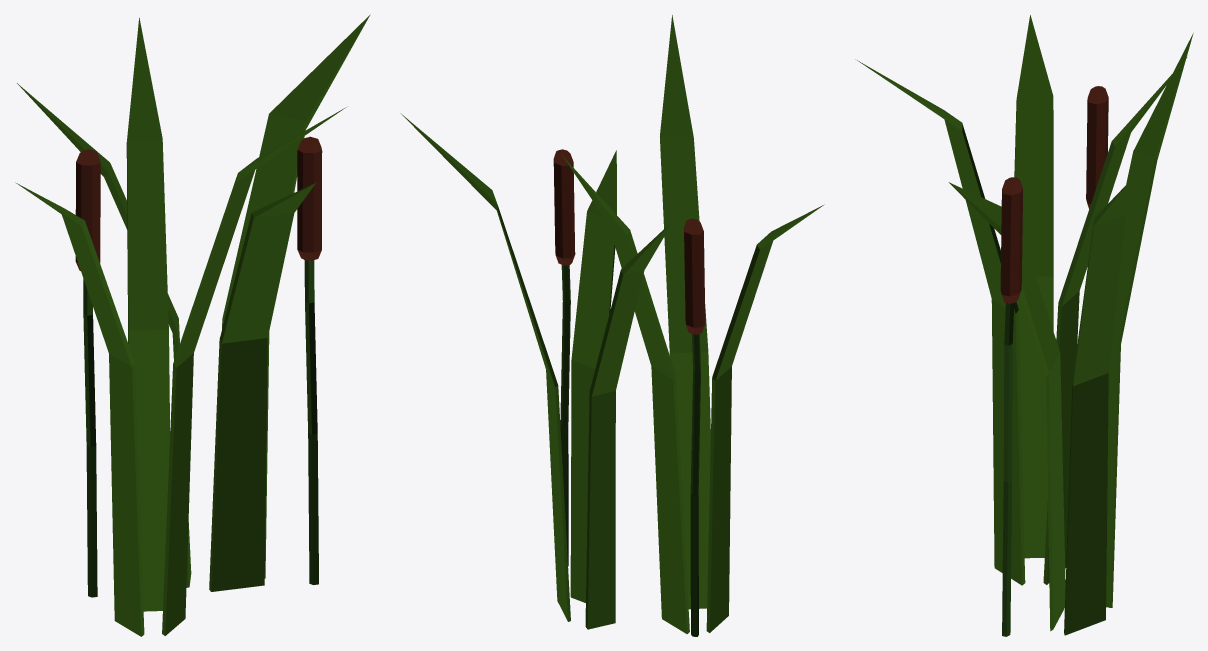
Rendered from waterSticks.FBX.
3 renders of one model, left to right at view 1: azimuth 30°, elevation 25°; view 2: azimuth 150°, elevation 25°; view 3: azimuth 270°, elevation 25°, orthographic. The views are drawn at different scales.
Parts seen in each view (by area): view 1: waterSticks; view 2: waterSticks; view 3: waterSticks.
Boxes of the visible parts, <box> form: waterSticks: <box>15,14,370,636</box>; waterSticks: <box>400,15,824,636</box>; waterSticks: <box>855,15,1193,636</box>.
Size of the model in its own units: 74.17 by 96.9 by 52.52.
